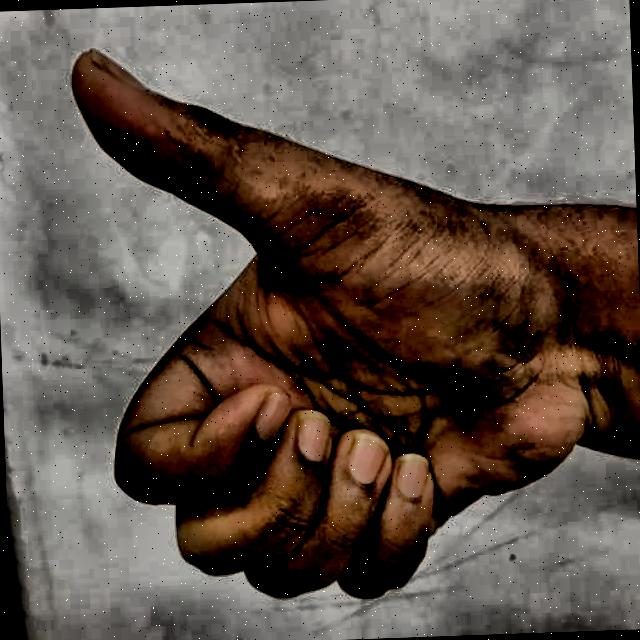Do: (39, 19, 597, 631)
